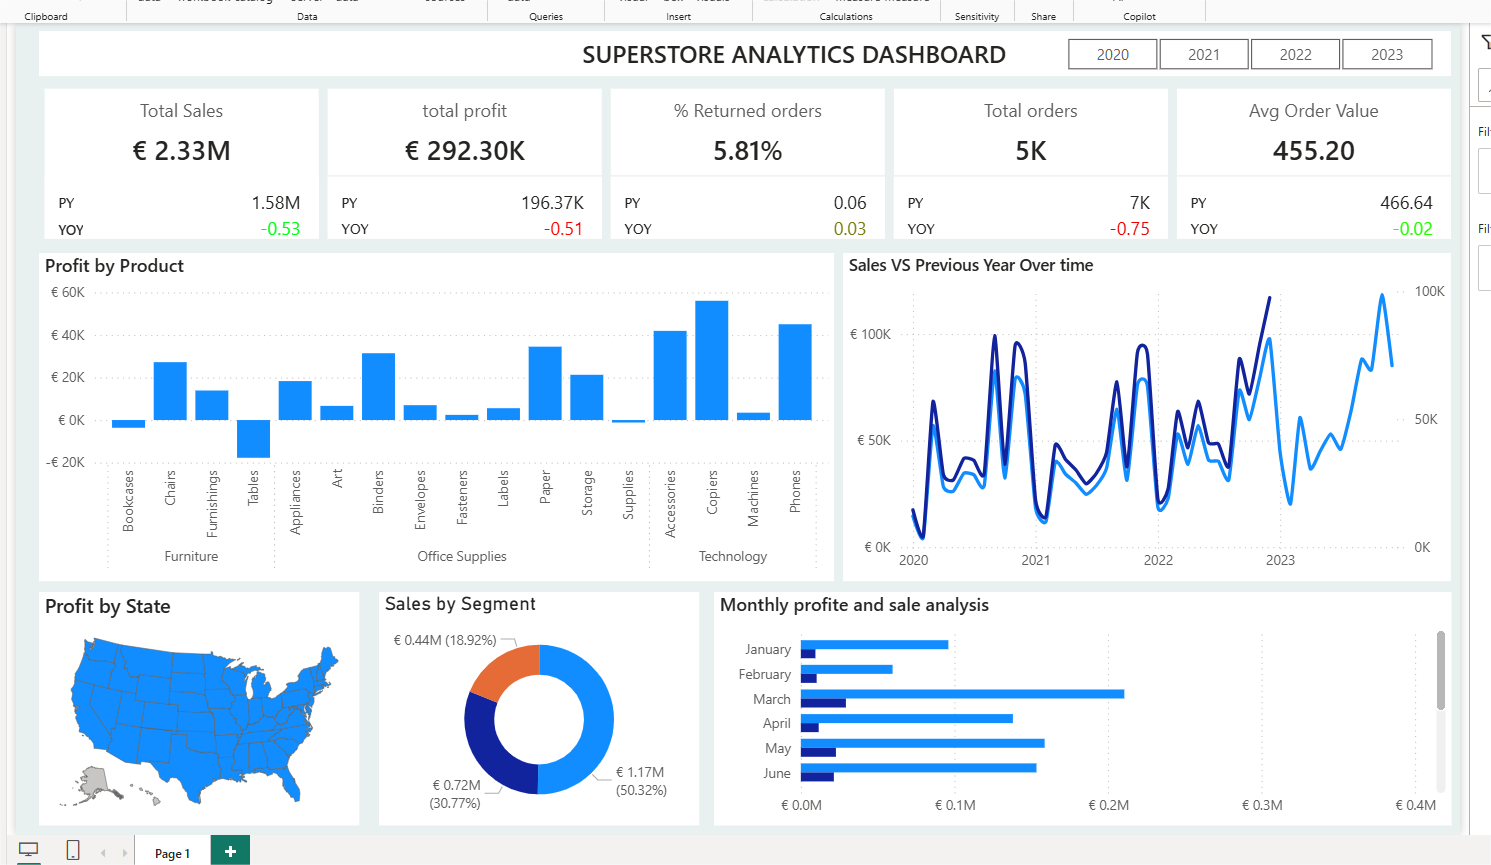

The dashboard page shown, as its layout file describes it:
{"tool":"powerbi","page":{"name":"Page 1","canvas":[1280,720],"ordinal":0},"visuals":[{"type":"columnChart","title":"Profit by Product","fields":{"Y":["Orders.total profit"],"Category":["Orders.Category","Orders.Sub-Category"]},"box":[20.4,204.3,705.2,290.8],"z":3},{"type":"textbox","box":[20.4,6.8,1251.8,39.9],"z":4},{"type":"shapeMap","title":"Profit by State","fields":{"Category":["Orders.State/Province"],"Series":["Orders.Profit"]},"box":[20.4,504.8,284,207.2],"z":5},{"type":"donutChart","title":"Sales by Segment","fields":{"Category":["Orders.Segment"],"Y":["Sum(Orders.Sales)"]},"box":[321.9,504.8,284,207.2],"z":6},{"type":"lineChart","title":"Sales VS Previous Year Over time","fields":{"Y":["Sum(Orders.Sales)"],"Category":["Orders.Start of Month.Variation.Date Hierarchy.Year","Orders.Start of Month.Variation.Date Hierarchy.Quarter","Orders.Start of Month.Variation.Date Hierarchy.Month","Orders.Start of Month.Variation.Date Hierarchy.Day"],"Y2":["Orders.PY total sale"]},"box":[733.4,204.3,538.8,290.8],"z":7},{"type":"cardVisual","fields":{"Data":["Orders.Total Sales","Orders.total profit","Orders.% Returned orders","Orders.Total orders","Orders.Avg Order Value"]},"box":[20.4,53.5,1259.6,144],"z":10},{"type":"clusteredBarChart","title":"Monthly profite and sale analysis","fields":{"Category":["calender table.month"],"Y":["Orders.Total Sales","Orders.total profit"]},"box":[618.6,504.8,653.6,207.2],"z":11},{"type":"slicer","fields":{"Values":["calender table.Year"]},"box":[907.5,6.8,372.5,39.9],"z":12}]}

Visuals, with their boxes on the page's 1280x720 design canvas (x1, y1, x2, y2). These are canvas units, not pixel positions in the 1491x865 screenshot, which may show the page scaled, cropped or inside an application window:
"Profit by Product" columnChart: 20,204,726,495
textbox: 20,7,1272,47
"Profit by State" shapeMap: 20,505,304,712
"Sales by Segment" donutChart: 322,505,606,712
"Sales VS Previous Year Over time" lineChart: 733,204,1272,495
cardVisual - Orders.Total Sales x Orders.total profit: 20,54,1280,198
"Monthly profite and sale analysis" clusteredBarChart: 619,505,1272,712
slicer - calender table.Year: 908,7,1280,47
